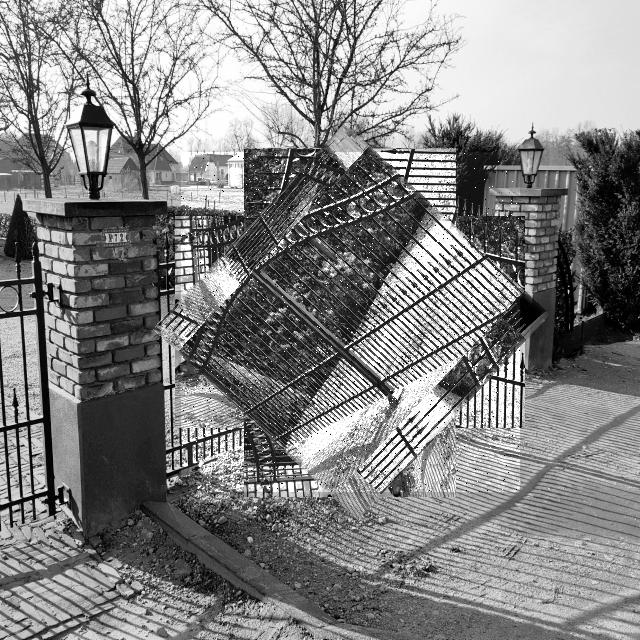fences: (181, 152, 520, 492)
